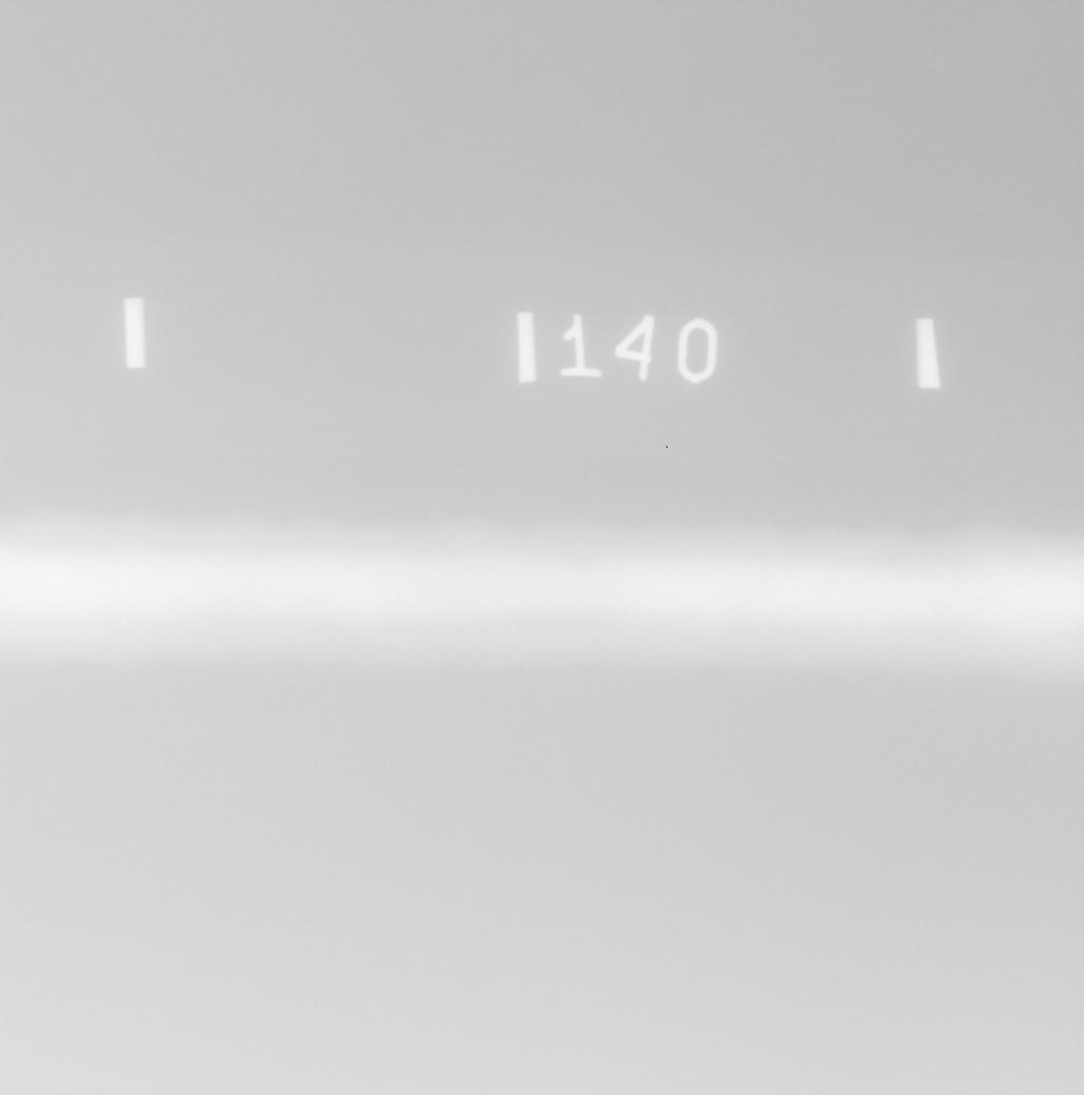Pore/Porosity: (977, 598, 984, 603), (944, 603, 950, 608), (364, 599, 369, 605), (24, 587, 30, 591), (396, 595, 402, 599)
